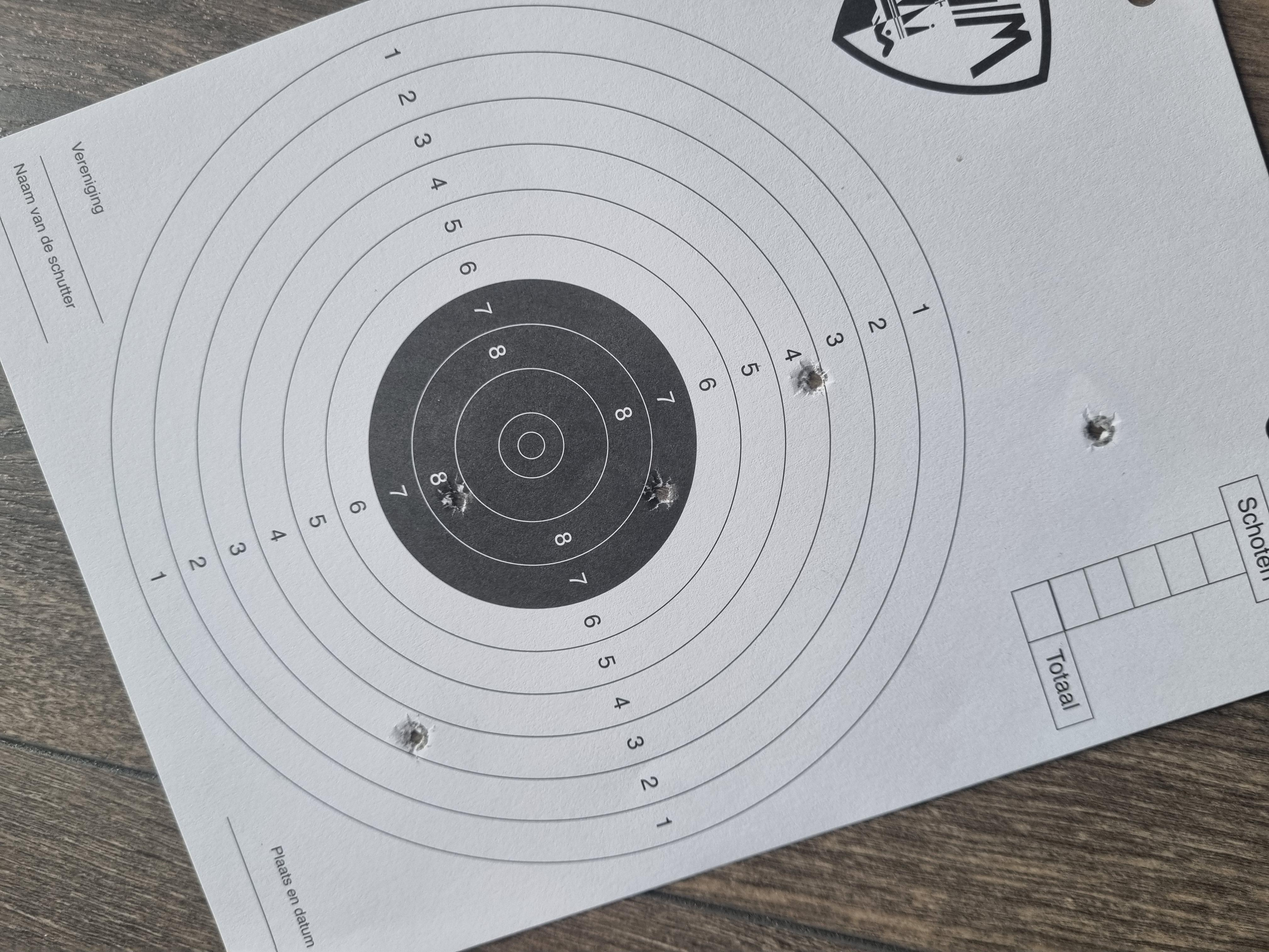hole: (664, 808, 720, 841), (260, 292, 315, 325), (583, 478, 639, 509), (736, 593, 788, 623), (578, 329, 637, 355)
